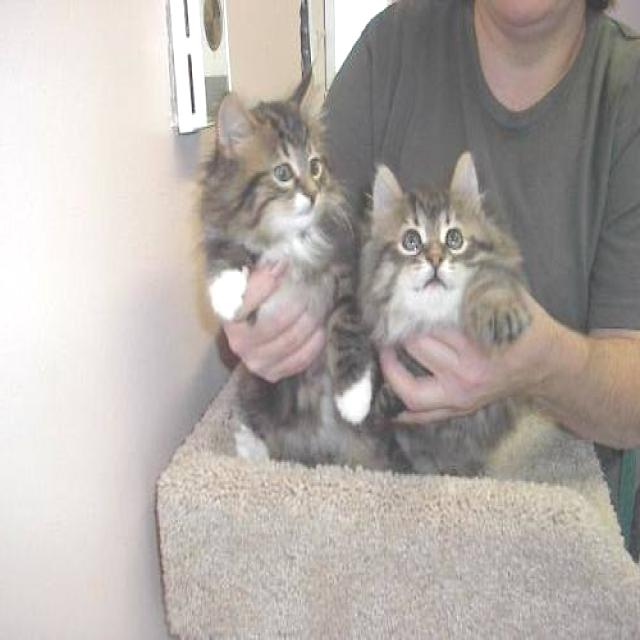Kucing: (150, 65, 352, 471), (356, 157, 558, 538)
